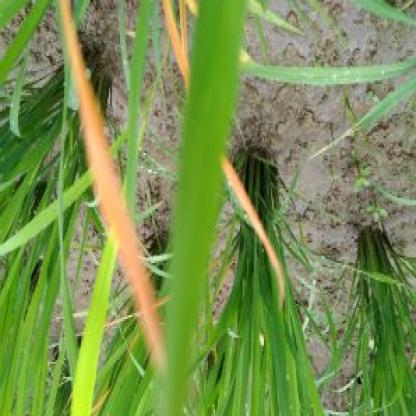Tungro: (63, 8, 139, 352)
